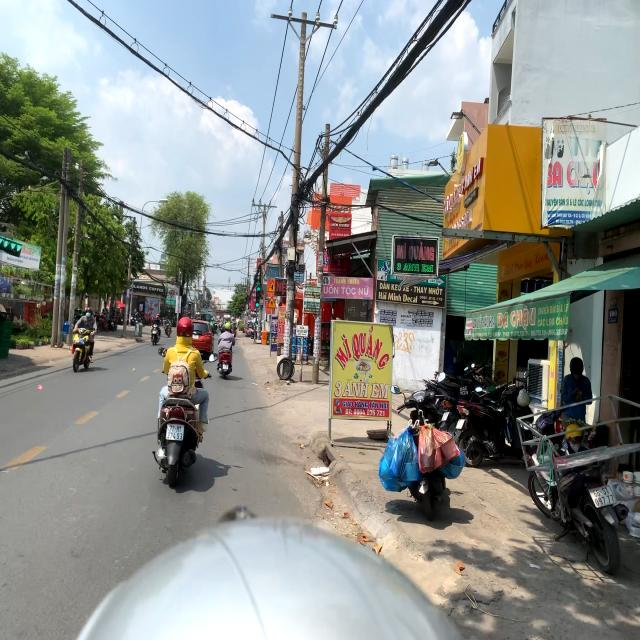Nguoi di bo cat ngang: (266, 296, 278, 309)
